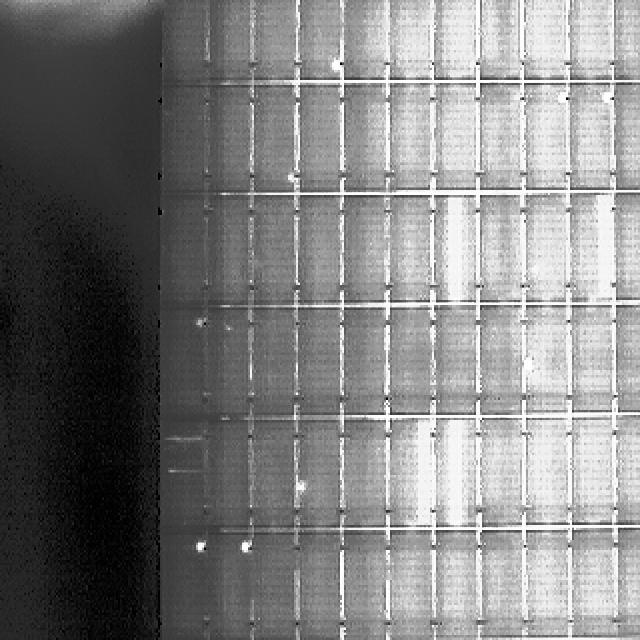Hotspots: (294, 476, 313, 501), (327, 53, 344, 79), (232, 537, 252, 559), (601, 88, 615, 115), (190, 536, 208, 556), (190, 312, 208, 332), (557, 89, 571, 112), (283, 174, 299, 194), (522, 358, 538, 377)
PV-modules: (434, 419, 483, 533), (389, 78, 438, 189), (247, 533, 299, 637), (200, 536, 252, 640), (250, 418, 298, 530), (204, 307, 252, 419), (389, 305, 437, 417), (162, 416, 208, 532), (298, 85, 346, 196), (472, 79, 520, 189), (473, 305, 520, 417), (389, 533, 438, 640), (298, 417, 345, 528), (567, 196, 614, 307), (251, 308, 297, 421), (295, 198, 342, 308), (295, 307, 342, 417), (203, 419, 250, 529), (204, 198, 251, 308), (524, 192, 570, 304), (348, 306, 394, 418), (389, 418, 435, 530), (478, 418, 524, 530), (252, 87, 299, 196), (568, 528, 616, 634), (435, 531, 483, 637), (431, 197, 478, 305), (342, 420, 388, 530), (251, 195, 297, 305), (294, 535, 342, 640), (567, 84, 614, 191), (343, 198, 389, 307), (431, 306, 477, 414), (525, 308, 571, 416), (431, 84, 477, 192), (568, 414, 613, 524), (526, 416, 571, 526), (164, 196, 209, 306), (164, 535, 211, 640), (349, 79, 393, 191), (163, 305, 207, 417), (205, 86, 251, 193), (164, 85, 210, 192), (478, 197, 523, 306), (526, 85, 572, 191), (570, 306, 614, 416), (525, 530, 571, 634), (479, 535, 525, 639), (348, 534, 393, 640), (390, 198, 434, 306), (250, 0, 298, 82), (340, 0, 388, 82), (388, 0, 434, 85), (520, 0, 568, 80), (294, 0, 340, 82), (204, 0, 250, 82), (428, 0, 474, 82), (164, 0, 208, 85), (566, 0, 612, 80), (608, 418, 640, 530), (608, 190, 640, 302), (478, 0, 522, 80), (610, 530, 640, 638), (606, 0, 640, 85), (614, 302, 640, 412), (614, 82, 640, 190)
